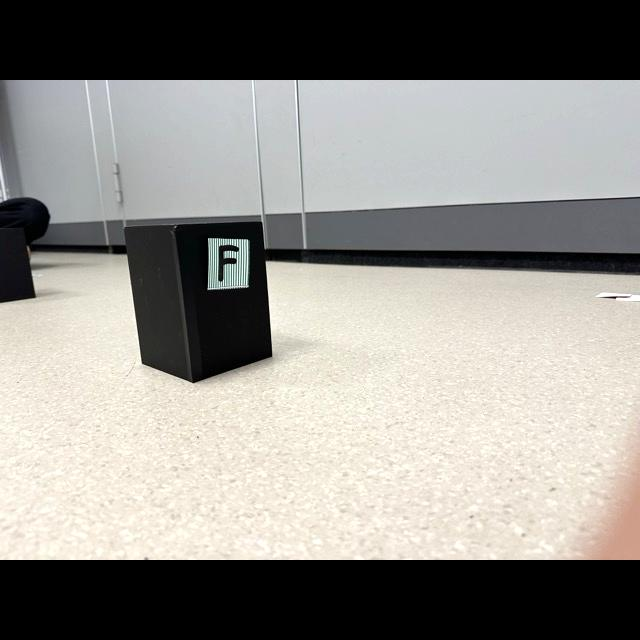F: (218, 245, 238, 281)
